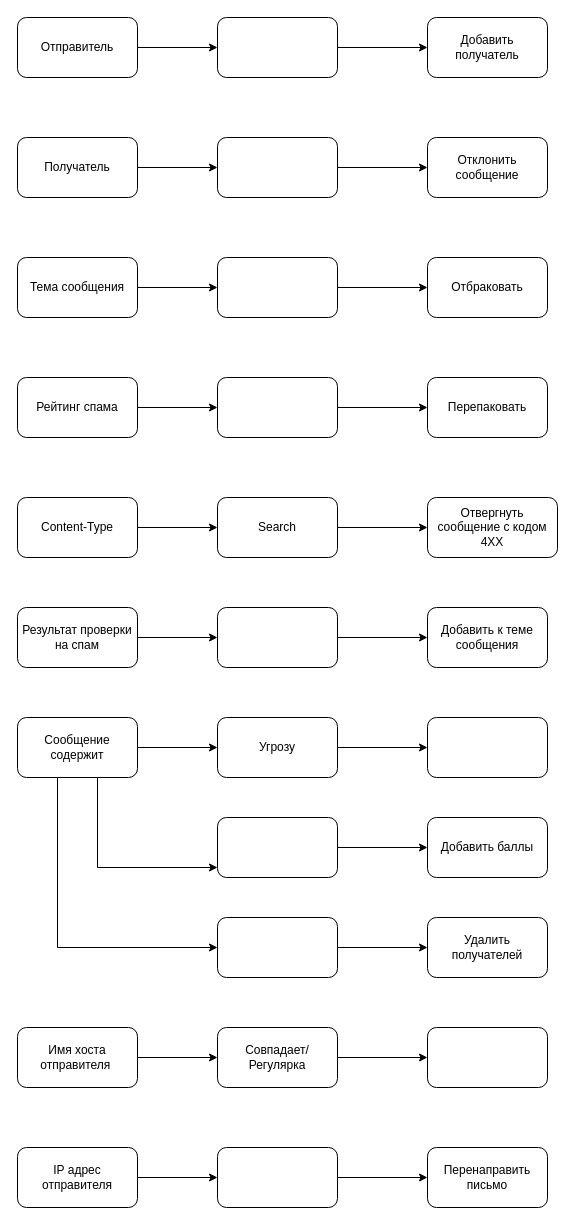
This 583x1225 diagram has some shape labels left out. Here are the shapes that lost their labels. From the top down, the centre of each, then its label:
point (277, 47): Источник данных MySQL
point (277, 167): Регулярка (AllMatch)
point (277, 287): Регулярка (Search)
point (277, 407): Больше или равно
point (277, 637): Содержит - SPAM
point (487, 747): Добавить заголовок
point (277, 847): Содержит URL из категорий
point (277, 947): Файл
point (487, 1057): Отправить ответ
point (277, 1177): Совпадает
